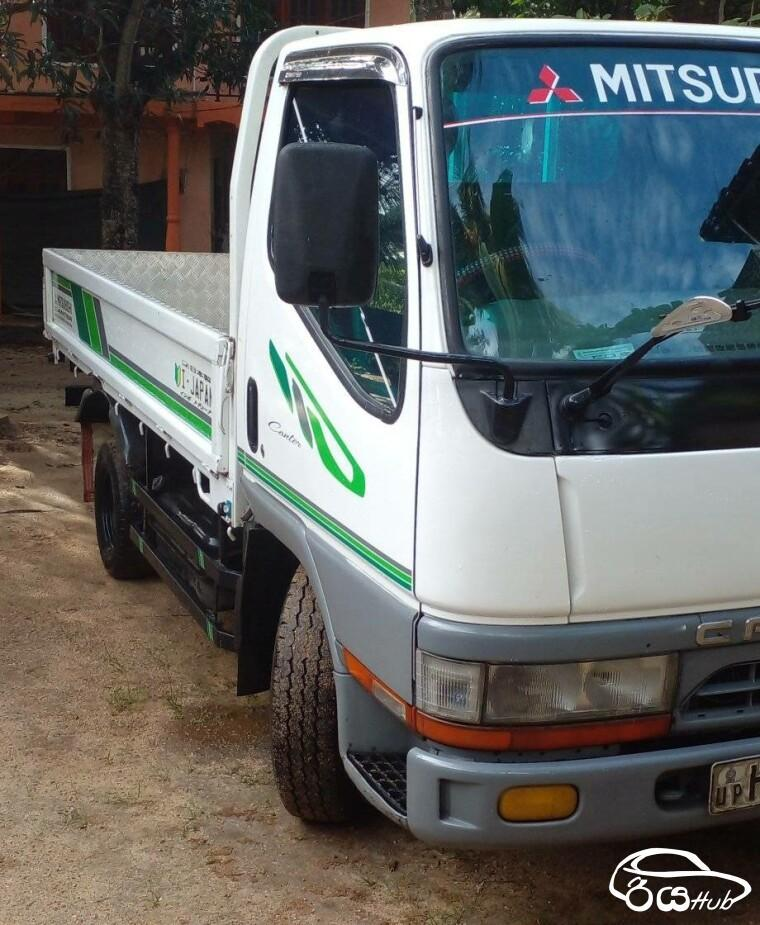truck: (40, 18, 760, 840)
